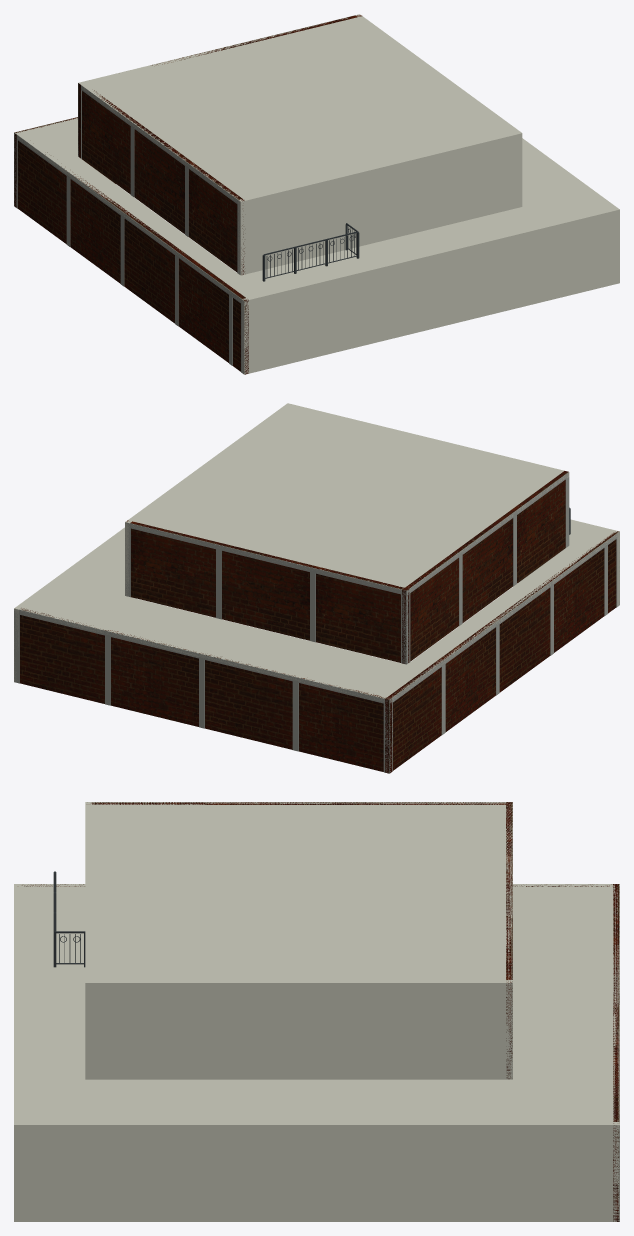
File: building.glb
3 renders of one model, top to bottom at view 1: azimuth 30°, elevation 25°; view 2: azimuth 150°, elevation 25°; view 3: azimuth 270°, elevation 25°, orthographic. The views are drawn at different scales.
Visible parts, largest first — view 1: roof/upper:0/roof_slab#0001, lower:0/edge0/z0/lower:0/edge0/z0/wall_0_0, upper:0/edge0/z3/upper:0/edge0/z3/wall_0_0, roof/lower:0/roof_slab#0001, lower:0/edge3/z0/lower:0/edge3/z0/wall_0_0, upper:0/edge3/z3/upper:0/edge3/z3/wall_0_0, lower:0/edge3/z0/lower:0/edge3/z0/beam_0_0, upper:0/edge1/z3/upper:0/edge1/z3/wall_0_0, upper:0/edge3/z3/upper:0/edge3/z3/beam_0_0, lower:0/edge1/z0/lower:0/edge1/z0/wall_0_0, upper:0/edge2/z3/upper:0/edge2/z3/wall_0_0; view 2: roof/upper:0/roof_slab#0001, lower:0/edge2/z0/lower:0/edge2/z0/wall_0_0, roof/lower:0/roof_slab#0001, upper:0/edge2/z3/upper:0/edge2/z3/wall_0_0, lower:0/edge3/z0/lower:0/edge3/z0/wall_0_0, upper:0/edge3/z3/upper:0/edge3/z3/wall_0_0, lower:0/edge2/z0/lower:0/edge2/z0/beam_0_0, upper:0/edge2/z3/upper:0/edge2/z3/beam_0_0, lower:0/edge3/z0/lower:0/edge3/z0/beam_0_0, upper:0/edge1/z3/upper:0/edge1/z3/wall_0_0, upper:0/edge3/z3/upper:0/edge3/z3/beam_0_0, upper:0/edge0/z3/upper:0/edge0/z3/wall_0_0 (+1 smaller); view 3: roof/upper:0/roof_slab#0001, roof/lower:0/roof_slab#0001, lower:0/edge1/z0/lower:0/edge1/z0/wall_0_0, upper:0/edge1/z3/upper:0/edge1/z3/wall_0_0, lower:0/edge0/z0/lower:0/edge0/z0/wall_0_0, upper:0/edge0/z3/upper:0/edge0/z3/wall_0_0, lower:0/edge2/z0/lower:0/edge2/z0/wall_0_0, upper:0/edge2/z3/upper:0/edge2/z3/wall_0_0, upper:0/edge3/z3/upper:0/edge3/z3/wall_0_0.
Part boxes in pixels (x1,y1,x2,y2): roof/upper:0/roof_slab#0001: (78, 14, 520, 204); lower:0/edge0/z0/lower:0/edge0/z0/wall_0_0: (241, 209, 619, 374); upper:0/edge0/z3/upper:0/edge0/z3/wall_0_0: (238, 132, 522, 275); roof/lower:0/roof_slab#0001: (14, 117, 618, 303); lower:0/edge3/z0/lower:0/edge3/z0/wall_0_0: (17, 140, 248, 374); upper:0/edge3/z3/upper:0/edge3/z3/wall_0_0: (82, 90, 244, 274); lower:0/edge3/z0/lower:0/edge3/z0/beam_0_0: (14, 133, 243, 303); upper:0/edge1/z3/upper:0/edge1/z3/wall_0_0: (355, 14, 522, 207); upper:0/edge3/z3/upper:0/edge3/z3/beam_0_0: (81, 85, 240, 205); lower:0/edge1/z0/lower:0/edge1/z0/wall_0_0: (522, 138, 619, 284); upper:0/edge2/z3/upper:0/edge2/z3/wall_0_0: (78, 15, 361, 158); roof/upper:0/roof_slab#0001: (127, 404, 568, 592); lower:0/edge2/z0/lower:0/edge2/z0/wall_0_0: (20, 608, 392, 772); roof/lower:0/roof_slab#0001: (14, 520, 619, 703); upper:0/edge2/z3/upper:0/edge2/z3/wall_0_0: (127, 520, 409, 662); lower:0/edge3/z0/lower:0/edge3/z0/wall_0_0: (385, 531, 619, 773); upper:0/edge3/z3/upper:0/edge3/z3/wall_0_0: (402, 471, 568, 663); lower:0/edge2/z0/lower:0/edge2/z0/beam_0_0: (14, 609, 389, 703); upper:0/edge2/z3/upper:0/edge2/z3/beam_0_0: (125, 522, 406, 595); lower:0/edge3/z0/lower:0/edge3/z0/beam_0_0: (389, 533, 619, 704); upper:0/edge1/z3/upper:0/edge1/z3/wall_0_0: (125, 405, 289, 596); upper:0/edge3/z3/upper:0/edge3/z3/beam_0_0: (406, 472, 568, 595); upper:0/edge0/z3/upper:0/edge0/z3/wall_0_0: (285, 403, 569, 477); roof/upper:0/roof_slab#0001: (85, 802, 512, 987); roof/lower:0/roof_slab#0001: (14, 884, 619, 1129); lower:0/edge1/z0/lower:0/edge1/z0/wall_0_0: (14, 1122, 619, 1221); upper:0/edge1/z3/upper:0/edge1/z3/wall_0_0: (85, 980, 512, 1079); lower:0/edge0/z0/lower:0/edge0/z0/wall_0_0: (14, 884, 20, 1221); upper:0/edge0/z3/upper:0/edge0/z3/wall_0_0: (85, 802, 92, 1079); lower:0/edge2/z0/lower:0/edge2/z0/wall_0_0: (613, 884, 619, 1221); upper:0/edge2/z3/upper:0/edge2/z3/wall_0_0: (506, 802, 512, 1078); upper:0/edge3/z3/upper:0/edge3/z3/wall_0_0: (91, 802, 510, 804).
Size of the model in its own units: 16 by 6 by 17.
Materials: 4 (1 with a texture image).
